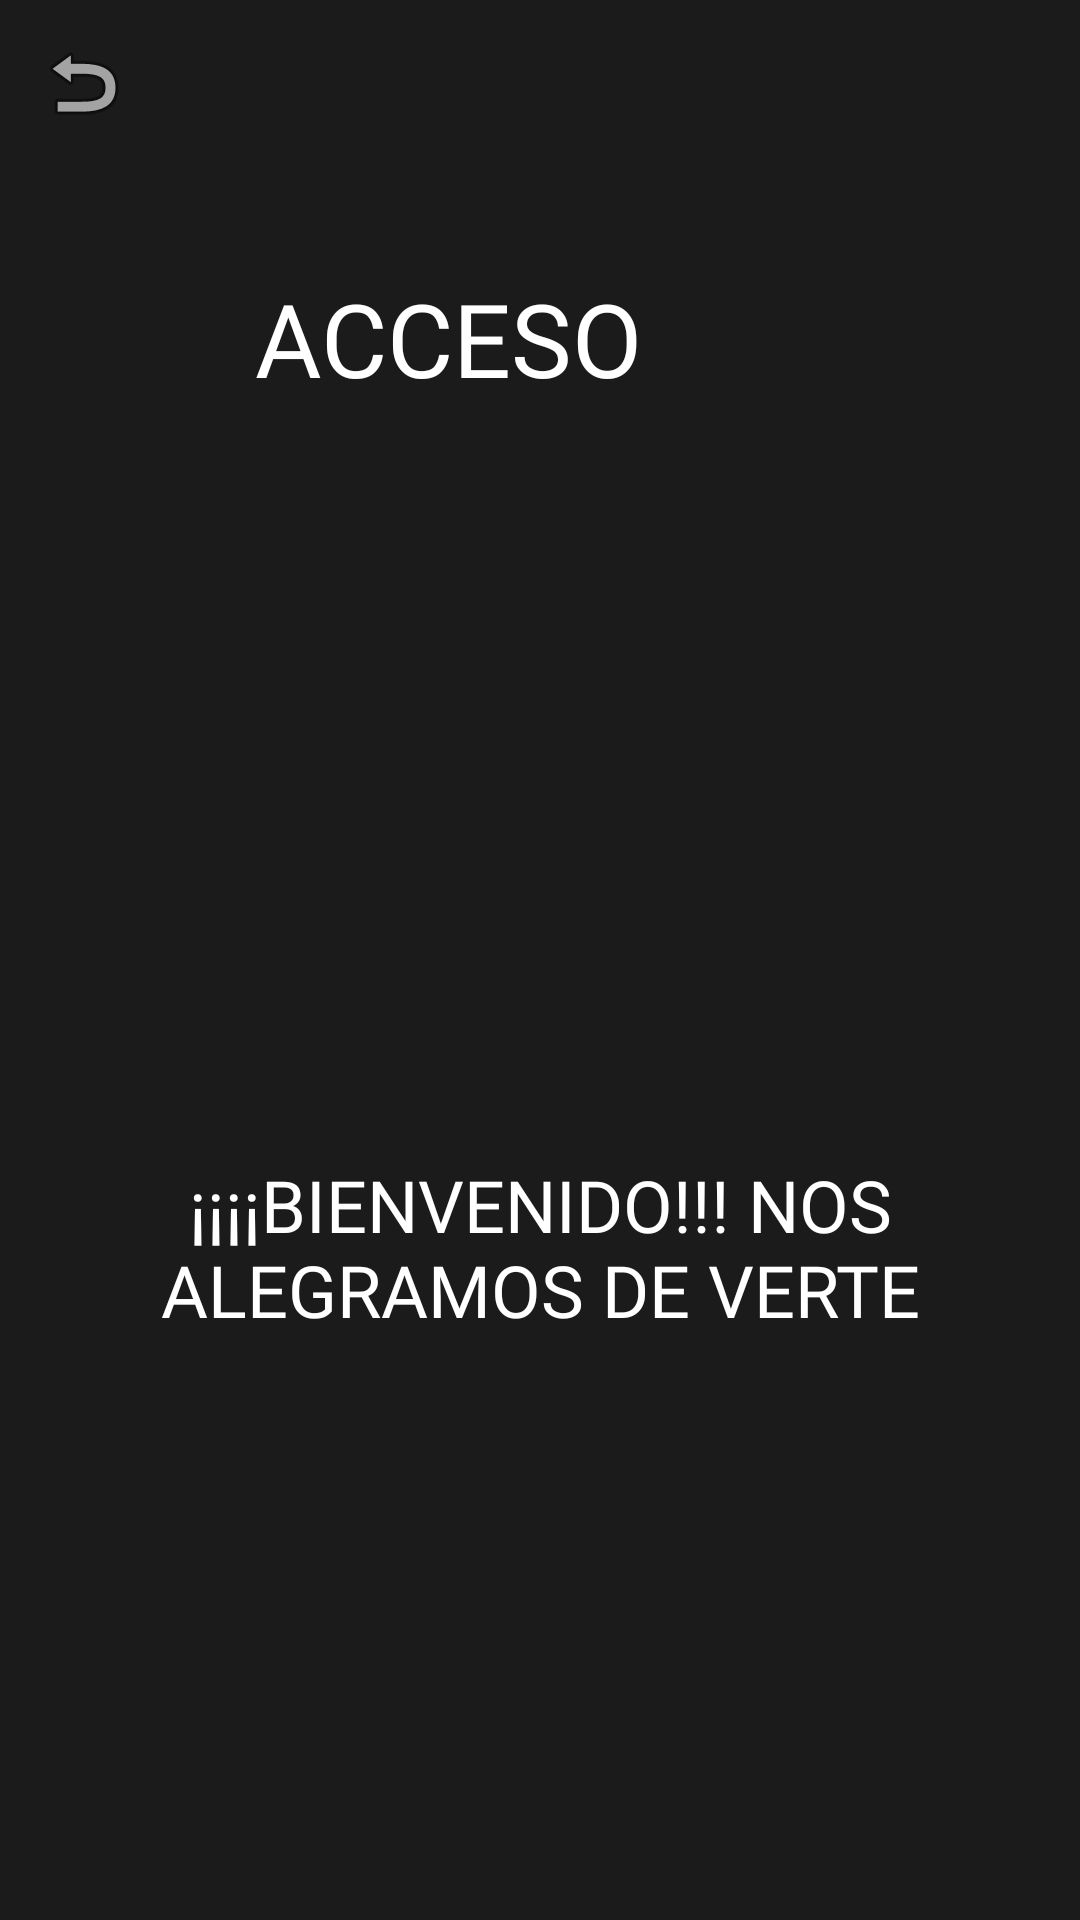

Icon bounding boxes for this 1080×1920 phone screenshot, format region(x1, y1, x2, y2):
volver: region(53, 55, 116, 112)
